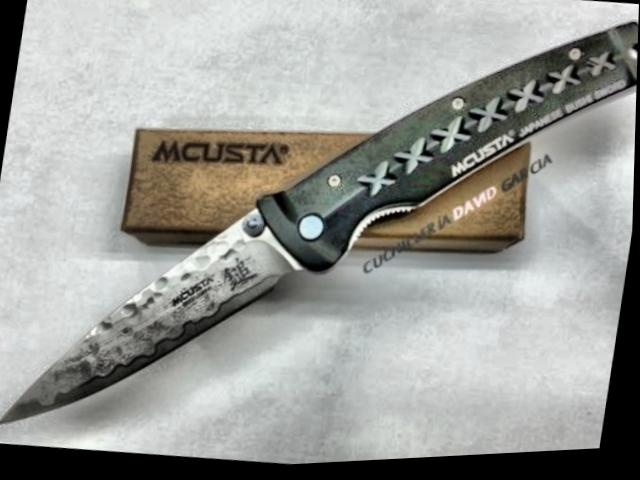knife: (0, 158, 323, 463)
